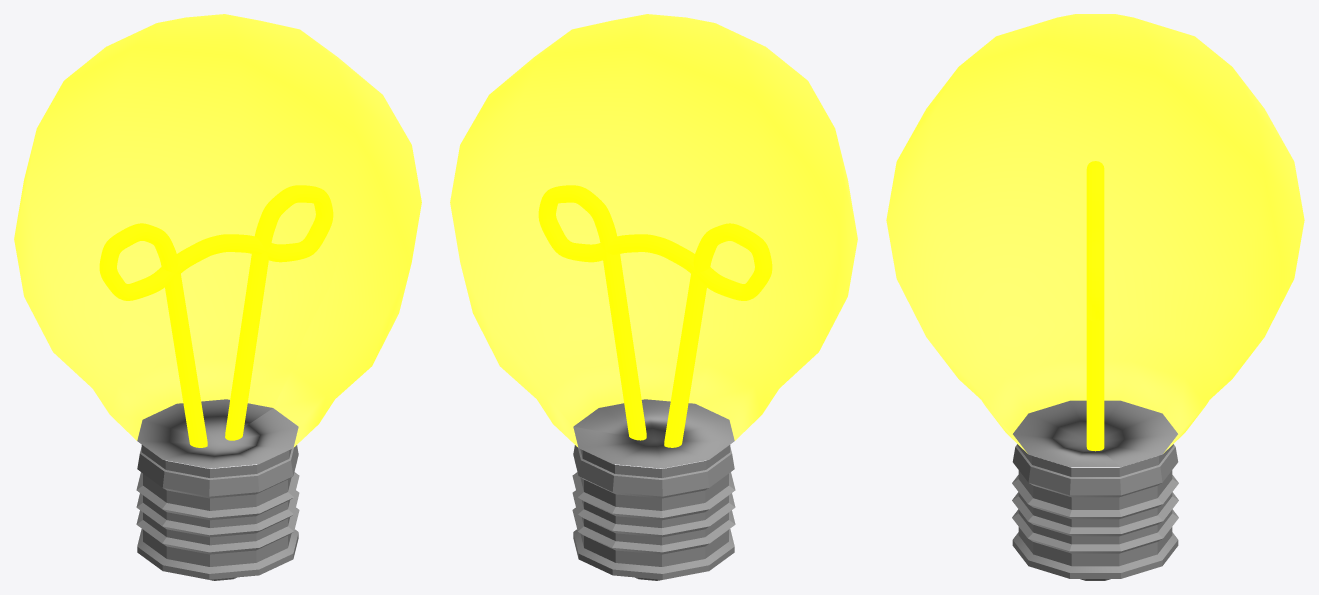
The model's file is lightbulb.glb.
3 views of the same model, side by side, from view 1: azimuth 30°, elevation 25°; view 2: azimuth 150°, elevation 25°; view 3: azimuth 270°, elevation 25° (orthographic).
Visible parts, largest first — view 1: lightbulb; view 2: lightbulb; view 3: lightbulb.
Part boxes in pixels (bbox=[...]): lightbulb: bbox=[14, 14, 421, 580]; lightbulb: bbox=[450, 14, 857, 580]; lightbulb: bbox=[886, 14, 1304, 580].
Size of the model in its own units: 0.7758 by 1.16 by 0.8157.
